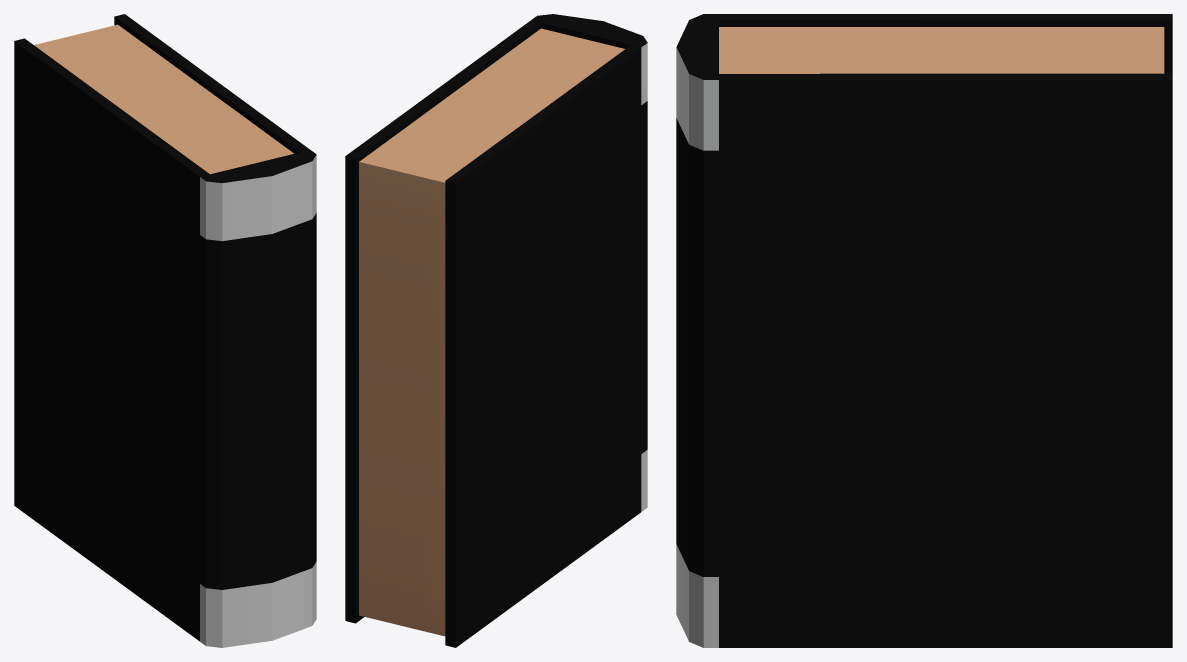
The model's file is Book_black_C.fbx.
3 renders of one model, left to right at view 1: azimuth 30°, elevation 25°; view 2: azimuth 150°, elevation 25°; view 3: azimuth 270°, elevation 25°, orthographic. The views are drawn at different scales.
Parts seen in each view (by area): view 1: Book_black_C; view 2: Book_black_C; view 3: Book_black_C.
Boxes of the visible parts, <box> form: Book_black_C: <box>14,14,316,647</box>; Book_black_C: <box>345,14,647,647</box>; Book_black_C: <box>676,14,1172,647</box>.
Bounding box in the file's own units: 6.32 × 25.38 × 20.08.
